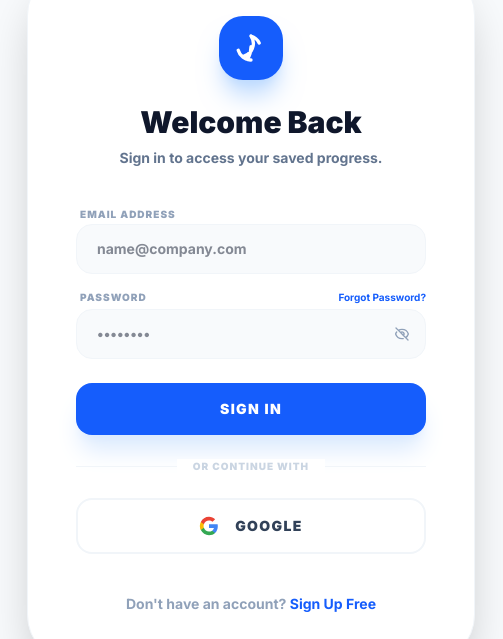
it: Login › should show forgot password form
The image size is (503, 639).
Click the button "Forgot Password?".
click(382, 298)  # box left=338, top=290, right=426, bottom=305
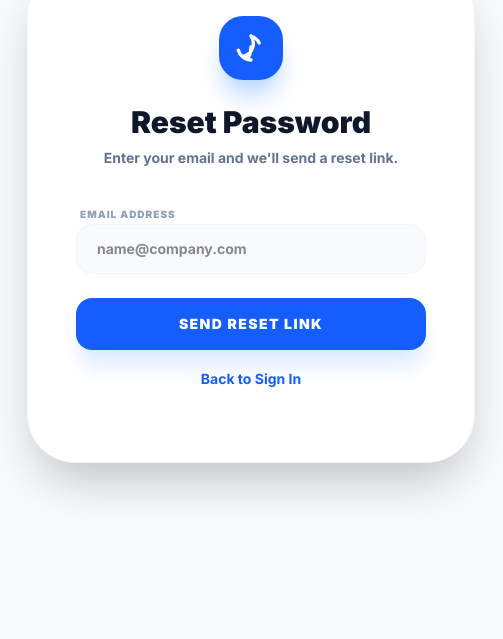
Result: the heading "Reset Password" is shown at left=131, top=104, right=371, bottom=140
Result: the button "Send Reset Link" is shown at left=76, top=298, right=426, bottom=350
